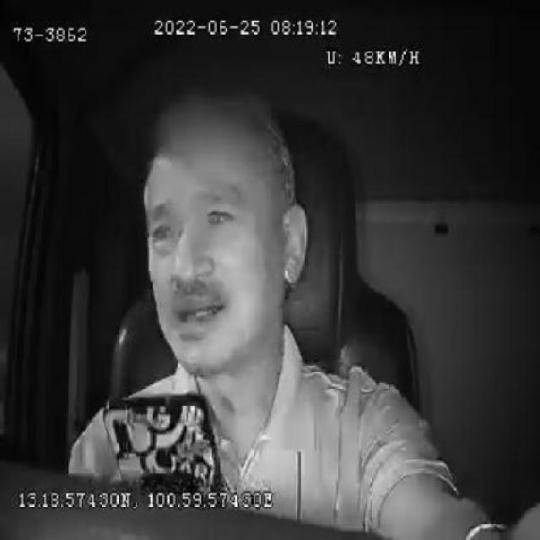phone: (100, 388, 227, 488)
